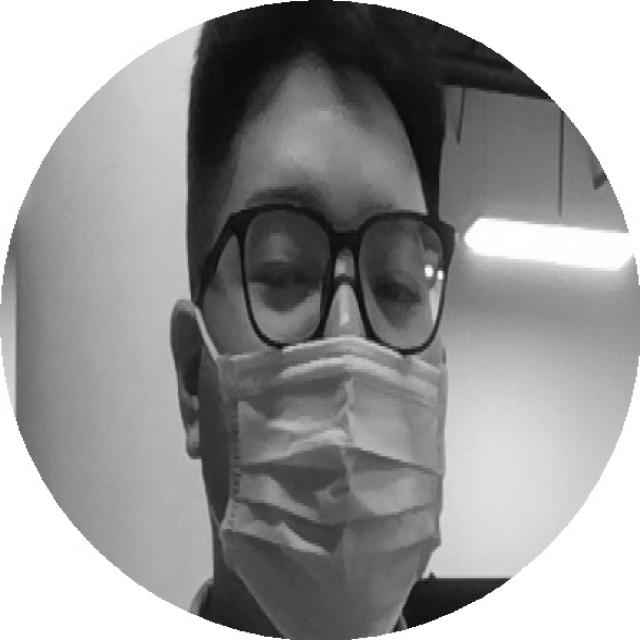fake: (201, 337, 453, 640)
real: (201, 216, 434, 323)
